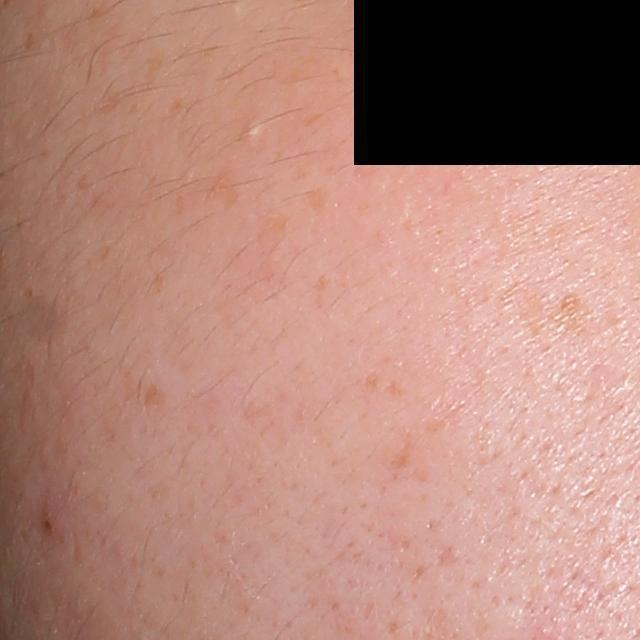comedo: (243, 123, 261, 143)
melasma: (495, 275, 590, 345), (204, 163, 244, 209), (254, 206, 293, 248), (143, 51, 169, 90), (142, 381, 169, 408), (303, 185, 326, 215), (163, 93, 185, 117), (90, 0, 114, 18), (300, 109, 324, 127)
